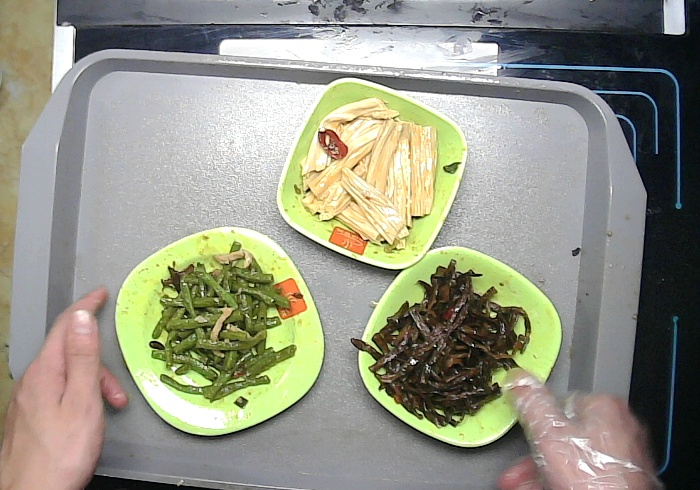SHKJ-Lv_Se_Cai_Die: (357, 246, 562, 448)
SHKJ-Lv_Se_Si_Fang_Cai_Die: (114, 226, 324, 436)
SHKJ-Lv_Se_Xiao_Fang_Die: (275, 78, 466, 270)
